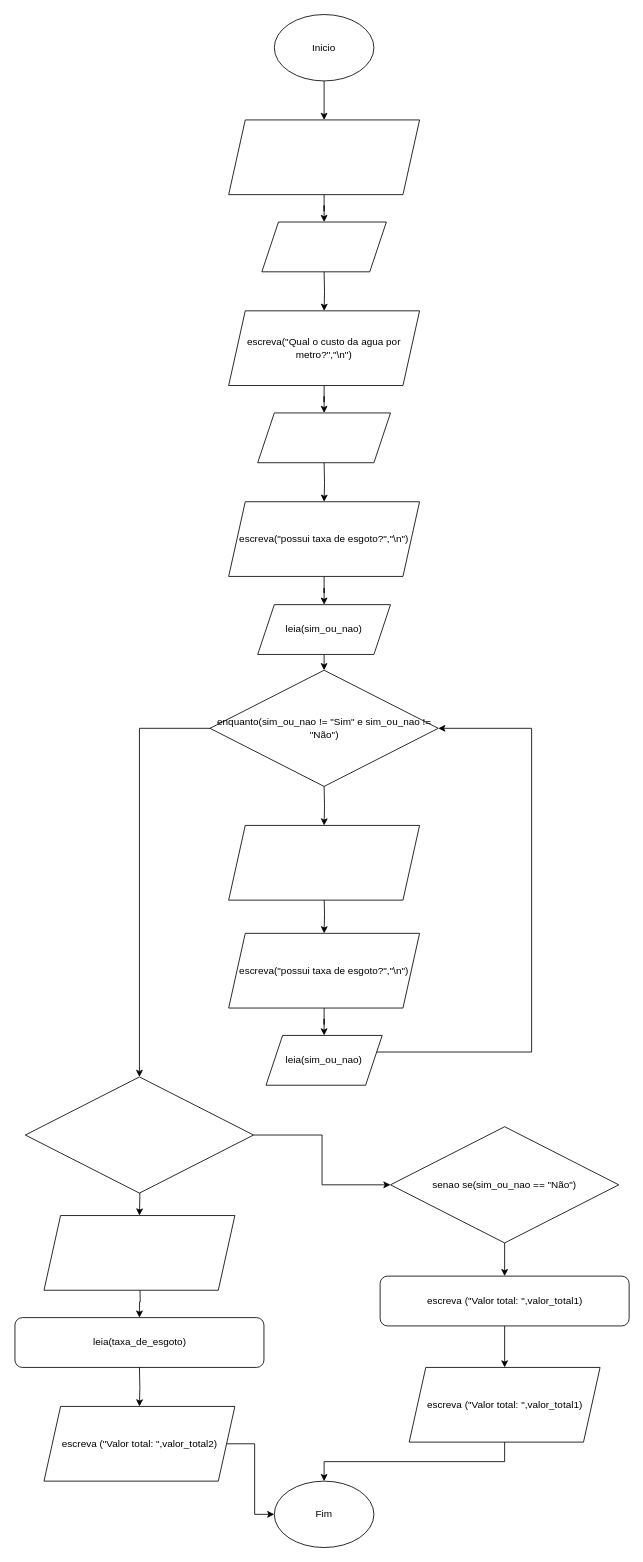
This 643x1562 diagram has some shape labels left out. The shapes that lost their labels are listed below. From the top down, each one's centre as x and y in pixels, then its label:
(x=324, y=157): escreva("Quantos metros em água foram gastos? (valor inteiro)","\n")
(x=323, y=246): leia(agua_em_metros)
(x=324, y=437): leia(valor_da_agua)
(x=324, y=862): escreva("Somente Sim ou Não")
(x=139, y=1134): se(sim_ou_nao == "Sim")
(x=139, y=1252): escreva("Qual o valor da taxa de esgoto?")
